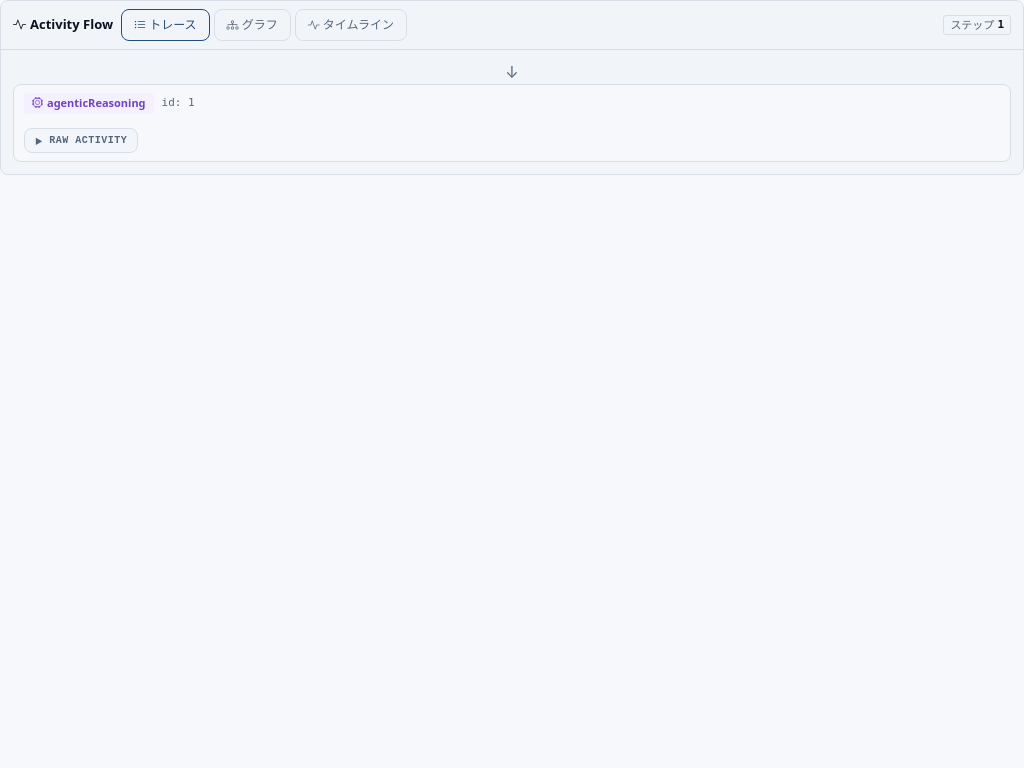
Scenario: AgenticActivityTrace › uses the Japanese timeline label and localized action badges
Click the button "タイムライン": (351, 25) x1=295 y1=9 x2=407 y2=41
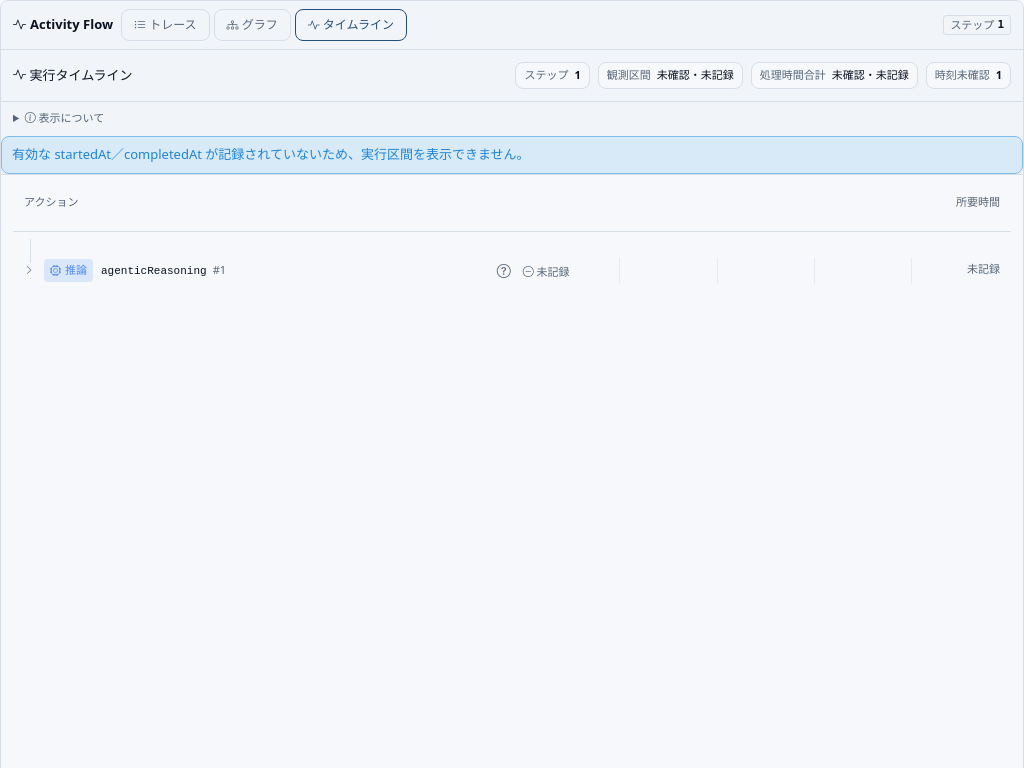
Now the list named "実行タイムライン" is shown, box x1=24 y1=258 x2=1000 y2=284
